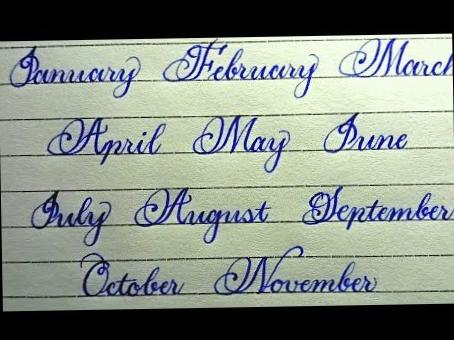text: (6, 35, 453, 107), (28, 181, 454, 248), (44, 109, 410, 178), (77, 242, 378, 304)
